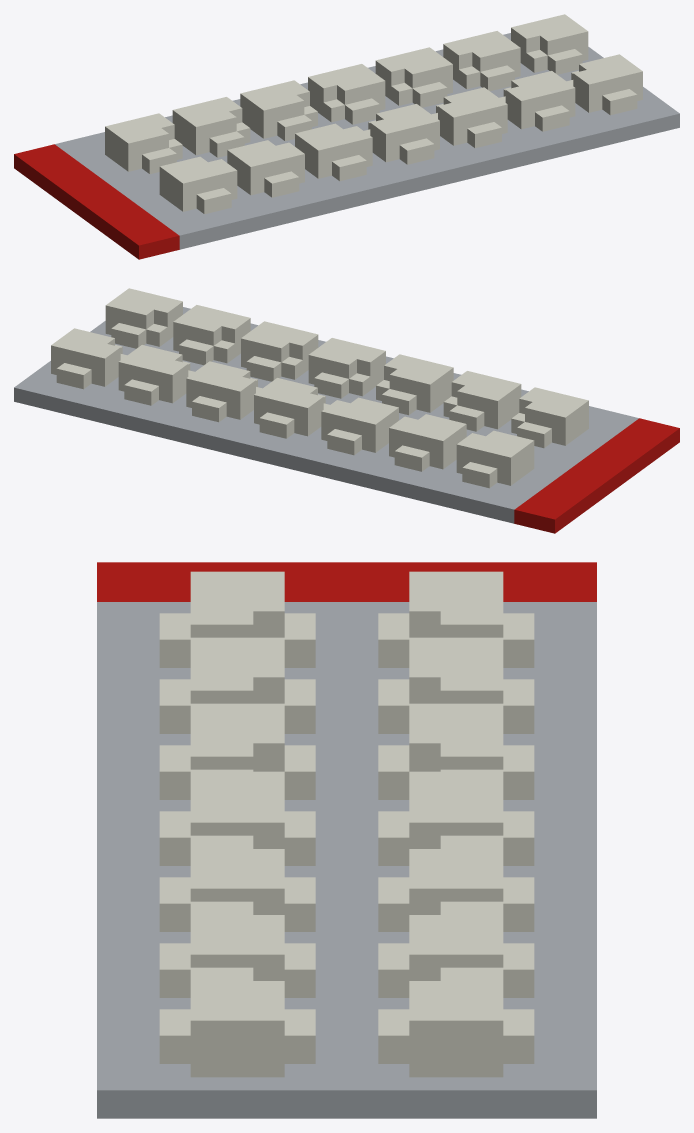
File: iodine.glb
3 views of the same model, one above another, from view 1: azimuth 30°, elevation 25°; view 2: azimuth 150°, elevation 25°; view 3: azimuth 270°, elevation 25° (orthographic). The views are drawn at different scales.
Visible parts, largest first — view 1: iodine:compound; view 2: iodine:compound; view 3: iodine:compound.
Part boxes in pixels (x1,y1,x2,y2): iodine:compound: [14, 14, 679, 259]; iodine:compound: [14, 288, 679, 533]; iodine:compound: [97, 562, 596, 1118].
Bounding box in the file's own units: 0.08 × 0.006 × 0.032.
